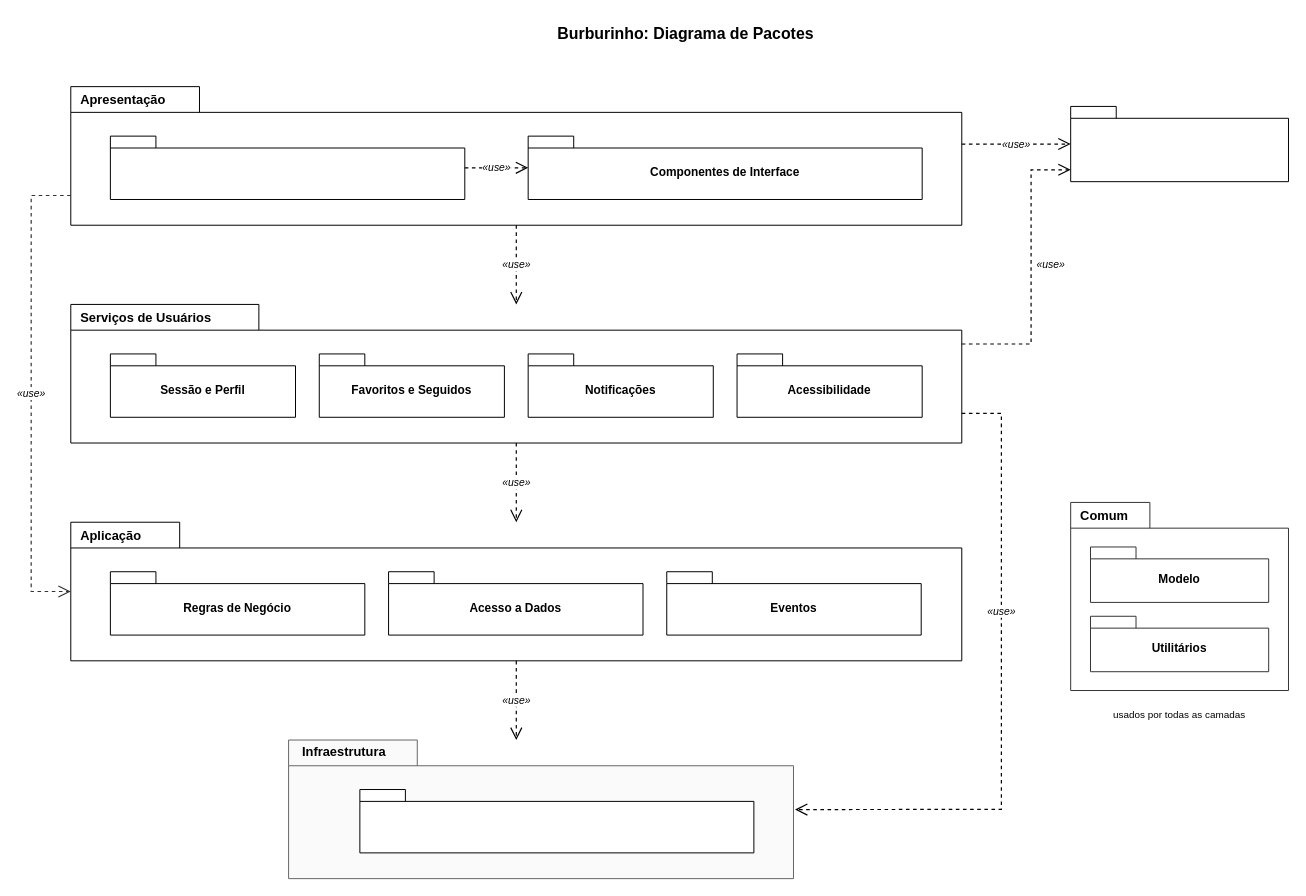
Image size: 1306x896. Some labels were removed from this diagram. Each missing label, with the centre of its shape:
"Armazenamento Local" belongs at (x=556, y=821).
"Páginas" belongs at (x=287, y=167).
"«framework» Next.js / React" belongs at (x=1179, y=143).
